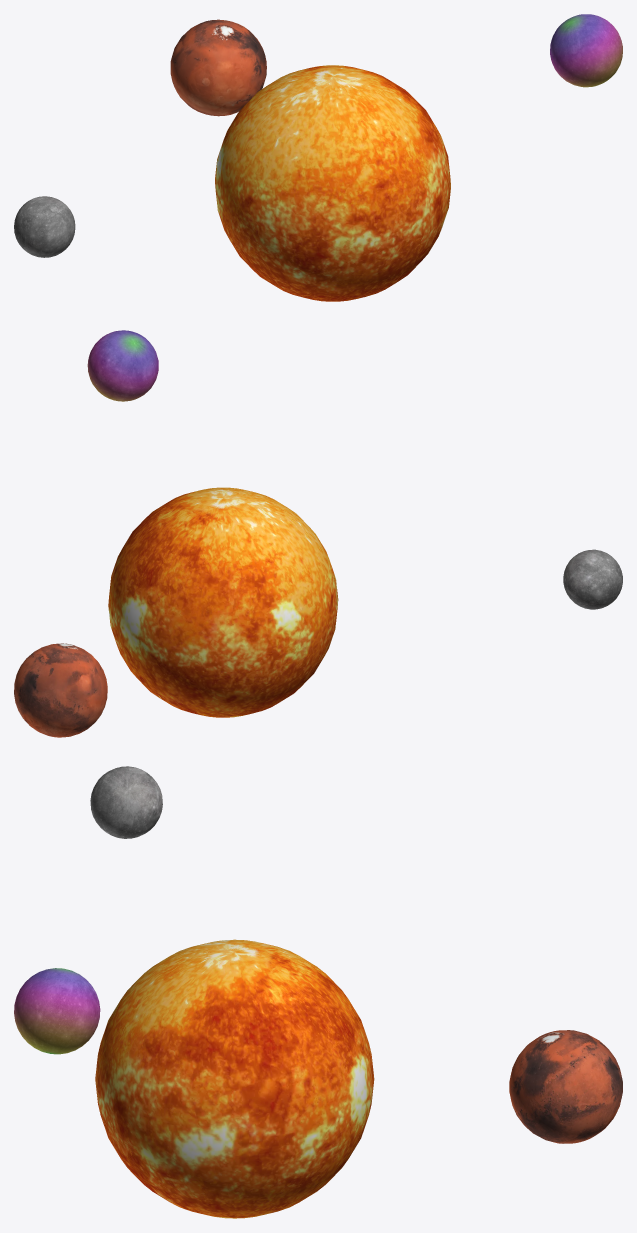
The model's file is planets-hi-transformed.glb.
3 renders of one model, top to bottom at view 1: azimuth 30°, elevation 25°; view 2: azimuth 150°, elevation 25°; view 3: azimuth 270°, elevation 25°, orthographic. The views are drawn at different scales.
Visible parts, largest first — view 1: Sun, Mars, ThirdPlanet, Moon; view 2: Sun, Mars, ThirdPlanet, Moon; view 3: Sun, Mars, ThirdPlanet, Moon.
Boxes of the visible parts, x1,y1,x2,y2 form: Sun: (215, 65, 450, 301); Mars: (170, 19, 266, 116); ThirdPlanet: (550, 14, 622, 87); Moon: (14, 196, 75, 257); Sun: (108, 487, 338, 717); Mars: (14, 643, 107, 737); ThirdPlanet: (87, 330, 158, 401); Moon: (563, 549, 622, 609); Sun: (95, 939, 374, 1218); Mars: (509, 1030, 622, 1143); ThirdPlanet: (14, 968, 100, 1054); Moon: (90, 766, 162, 838).
Bounding box in the file's own units: 70.71 × 33.75 × 55.46.
4 materials, 4 textured.
